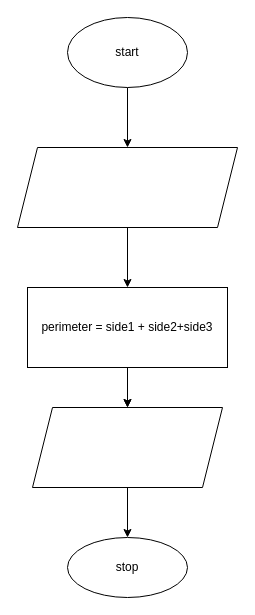
The diagram is 255 pixels wide and 615 high, and some of its shapes have lost their labels. Each missing label, with the box of its shape:
input side1 , side2, side3: (16, 146, 238, 228)
print perimeter: (32, 406, 222, 488)
